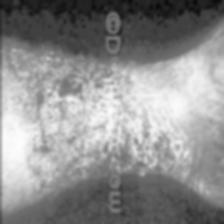Non-Cancerous Skin Condition: (0, 42, 107, 174), (118, 67, 188, 173)
